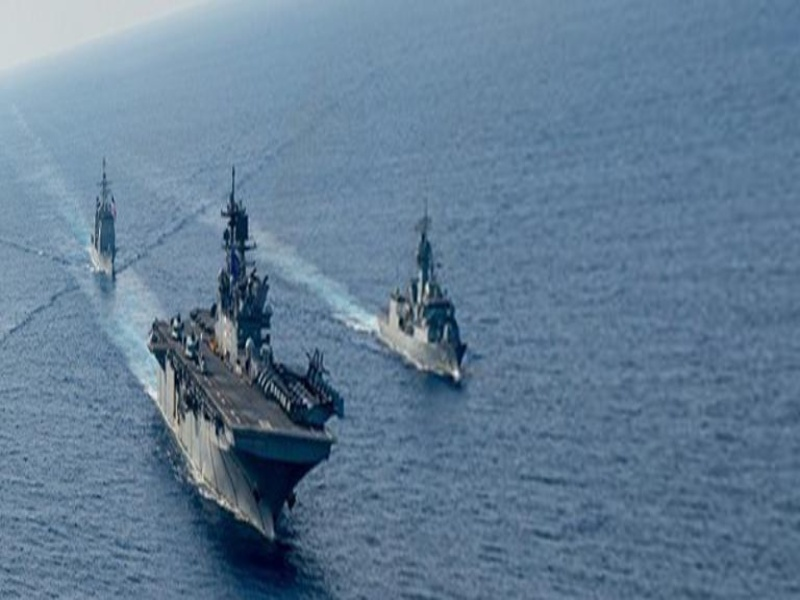carrier: (149, 222, 340, 549)
cruise: (384, 222, 472, 386), (74, 172, 129, 288)
